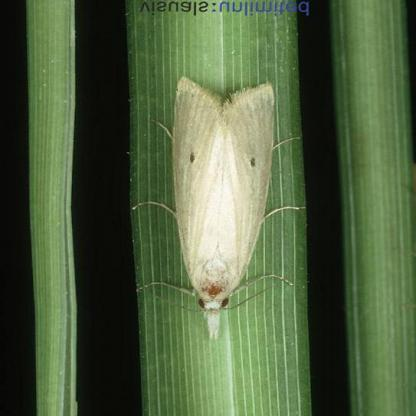stem-borer: (151, 74, 280, 344)
